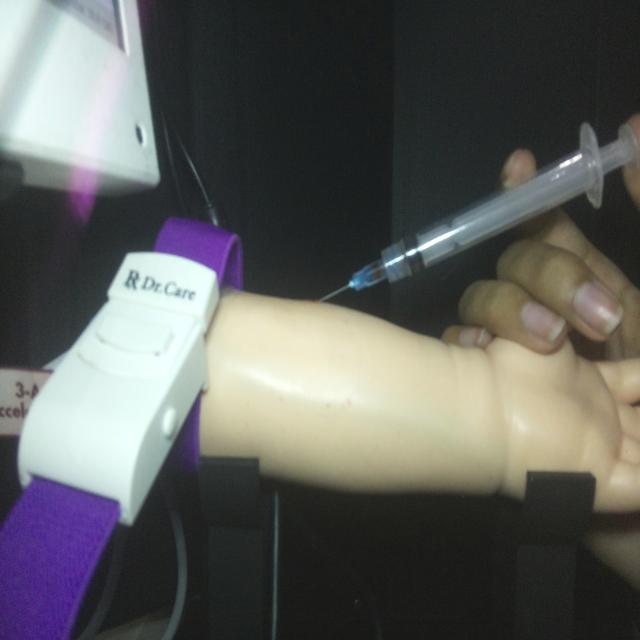17 degrees: (314, 117, 637, 305)
